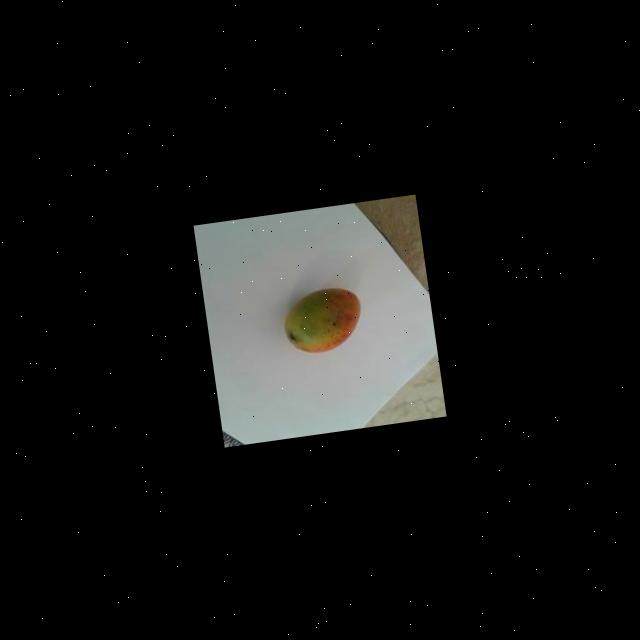Mango: (280, 282, 368, 356)
